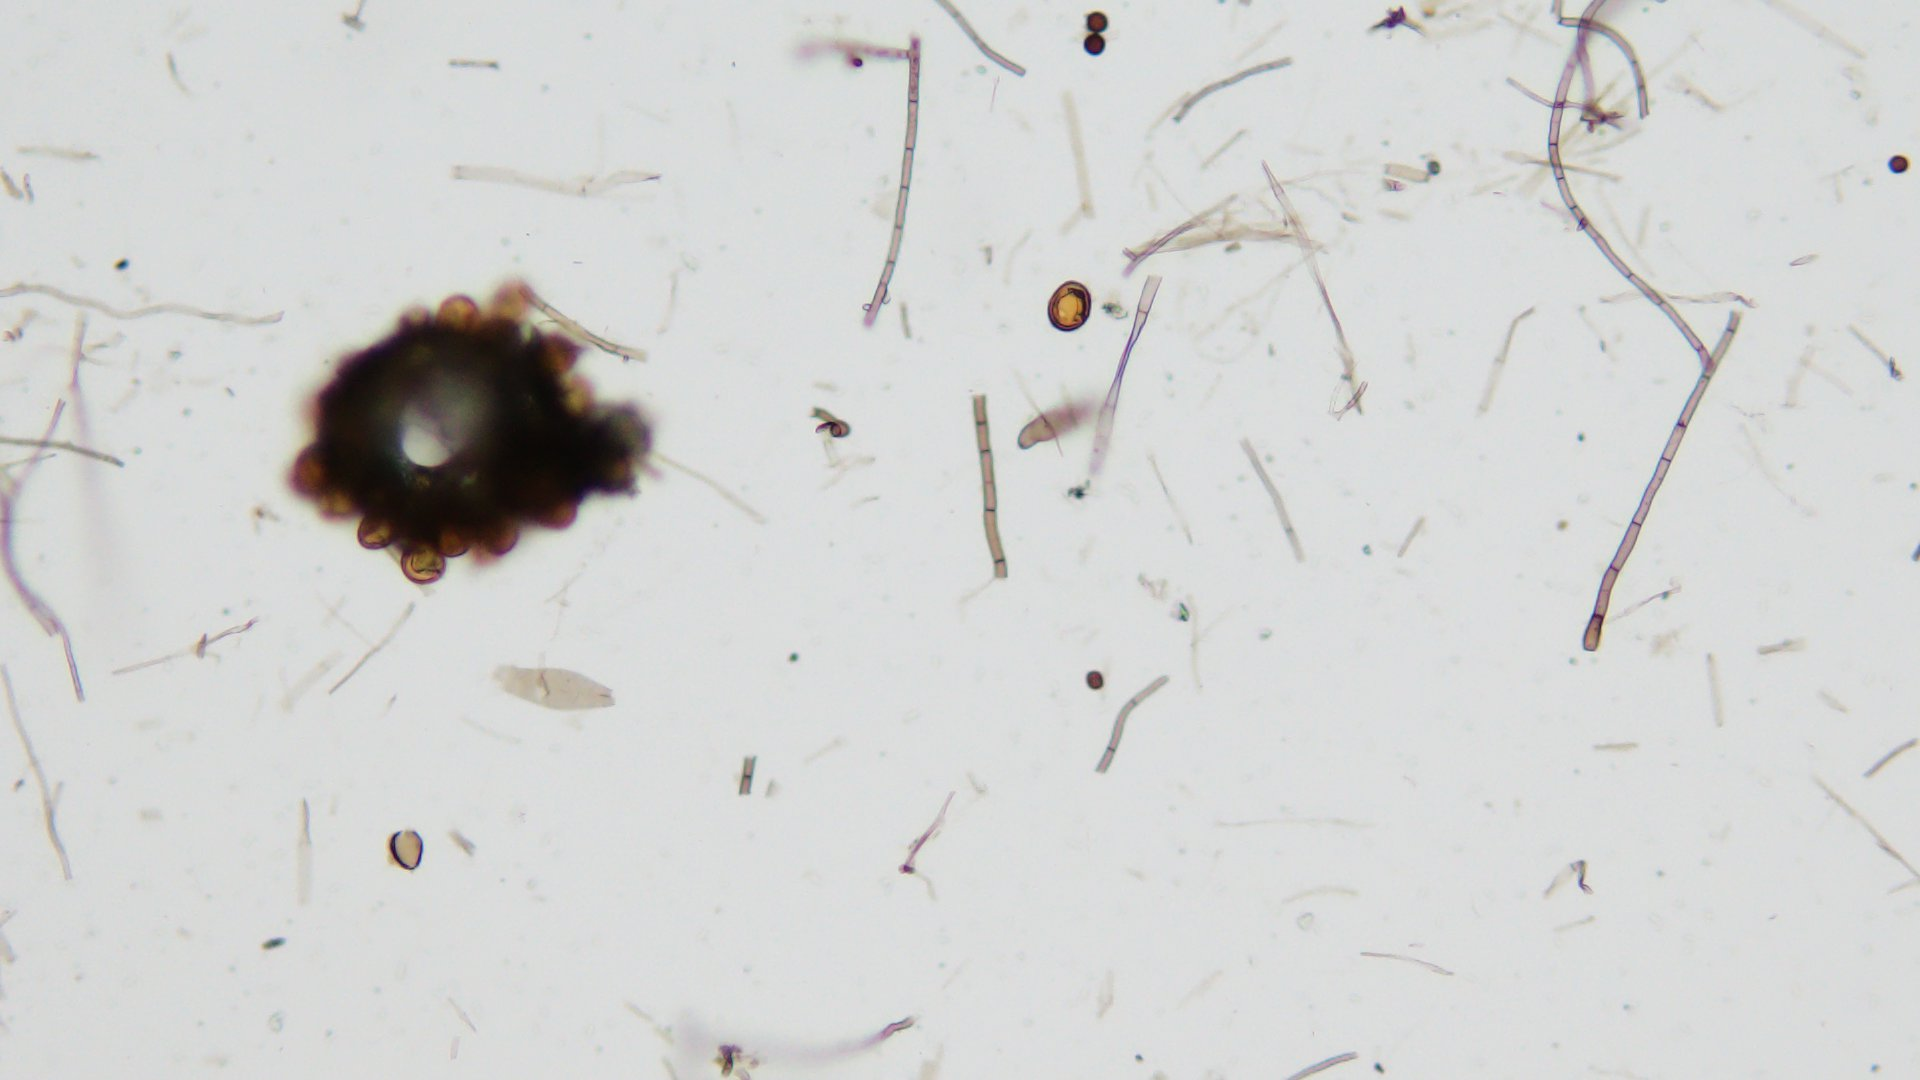shs_spore: (1080, 36, 1108, 55), (1084, 13, 1112, 32), (1887, 153, 1907, 175)
xb_spore: (1047, 284, 1091, 330), (357, 512, 398, 553), (401, 550, 444, 584)
